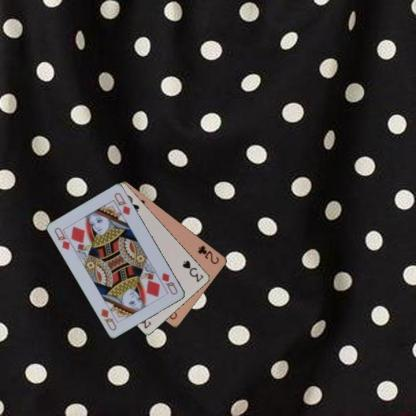2c: (195, 243, 221, 265)
3s: (180, 258, 205, 284)
Qd: (52, 225, 76, 252), (160, 270, 179, 296)
